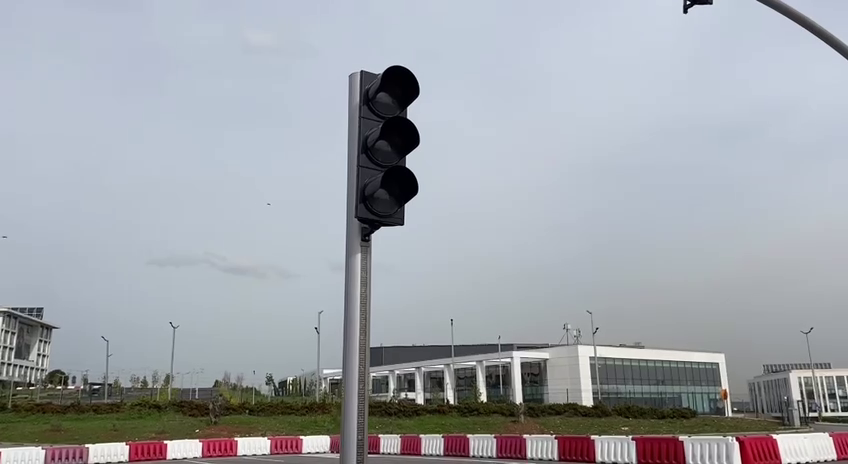trafficLight: (343, 59, 426, 234)
